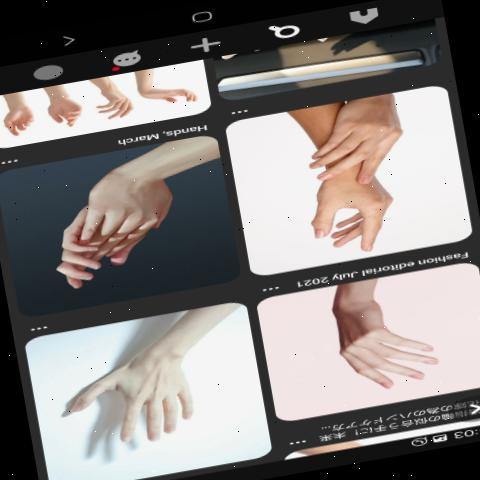Hands: (50, 342, 237, 462), (37, 153, 182, 292), (287, 282, 457, 393), (294, 102, 422, 190), (286, 174, 397, 253), (134, 76, 200, 114), (84, 86, 134, 126), (40, 91, 86, 132), (0, 103, 39, 142)
